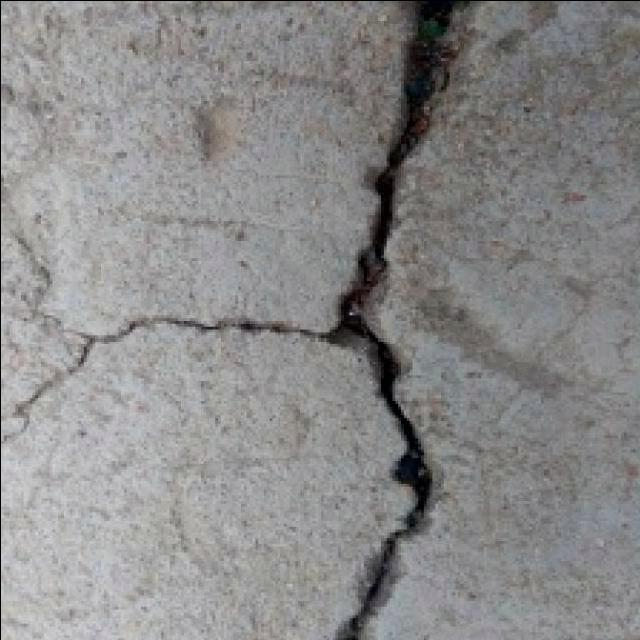SurfaceCrack: (284, 0, 488, 640)
